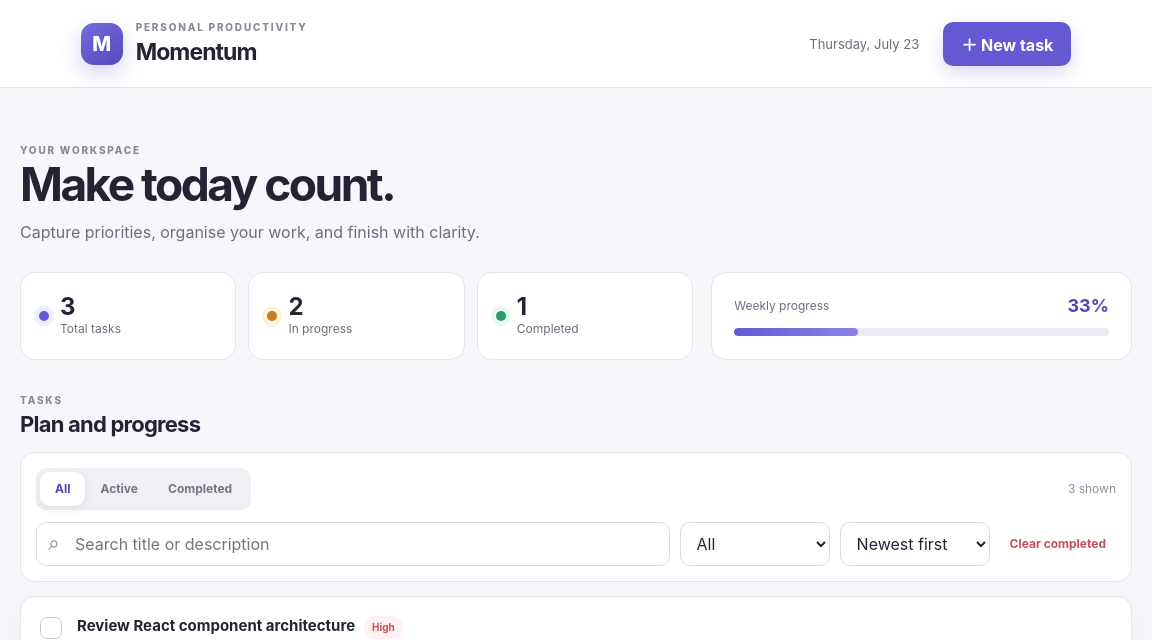
it: shows validation feedback for an empty task title
Click the button "＋ New task". click: (1007, 44)
box: [943,22,1071,66]
(page scrolled)
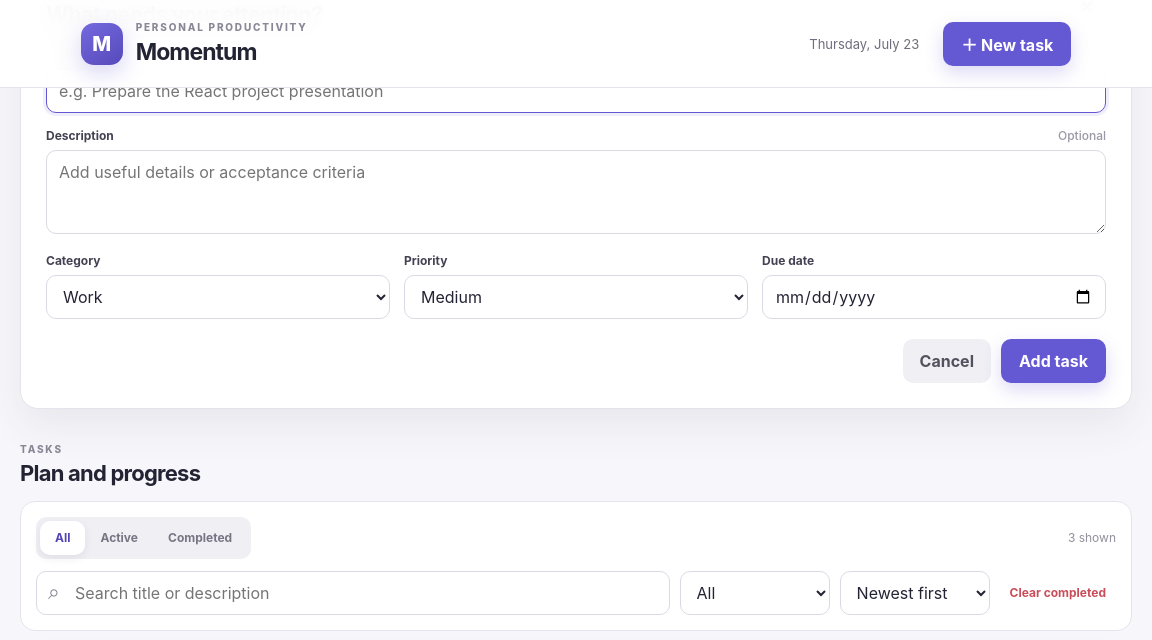
Click the button "Add task". click: (1054, 361)
box: [1001,339,1106,383]
(page scrolled)
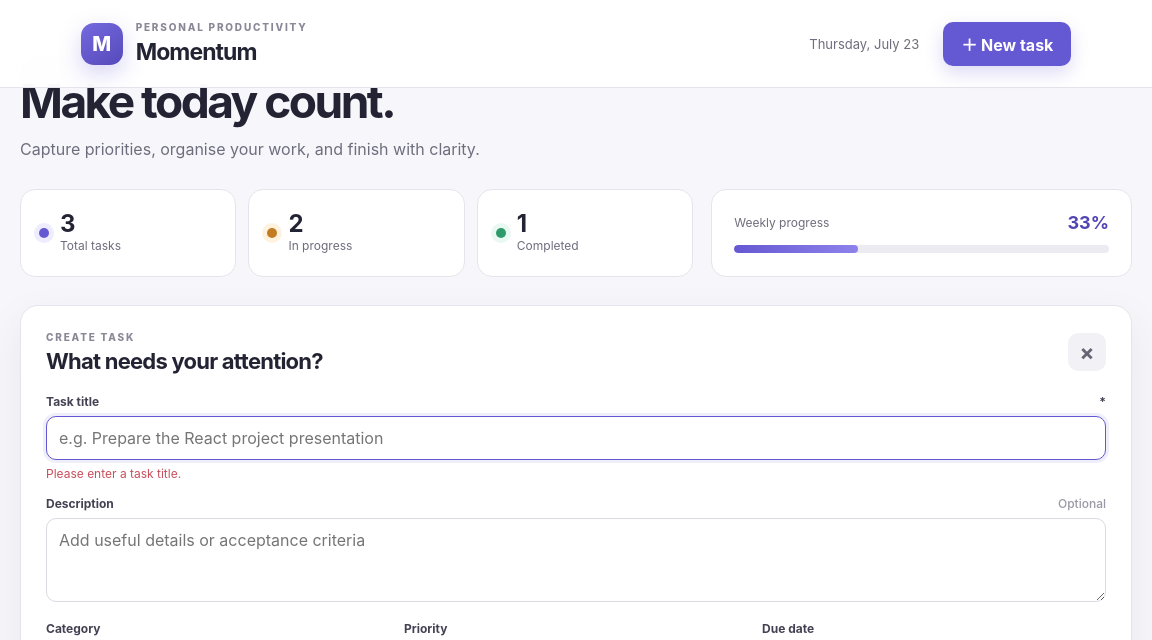
expect the message shows "Please enter a task title": met, box [46,466,181,481]
